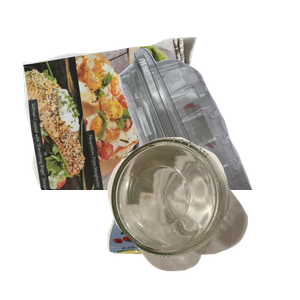glass: (105, 135, 300, 300)
paper: (20, 34, 221, 214)
plastic: (71, 45, 300, 225)
trash: (105, 152, 280, 300)
